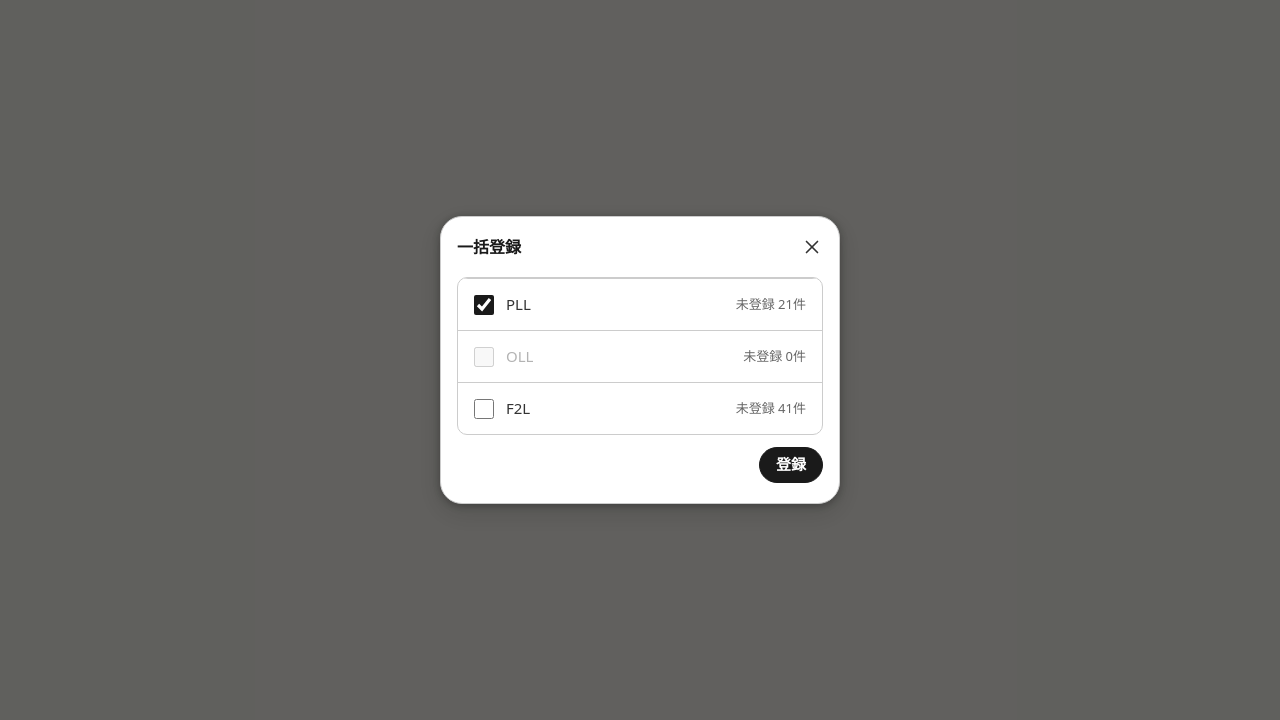
CategoryPickSheet › 1 つも選んでいなければ確定できない
The image size is (1280, 720).
Click the checkbox labelled "PLL 未登録 21件": (484, 304) [474, 294, 494, 314]
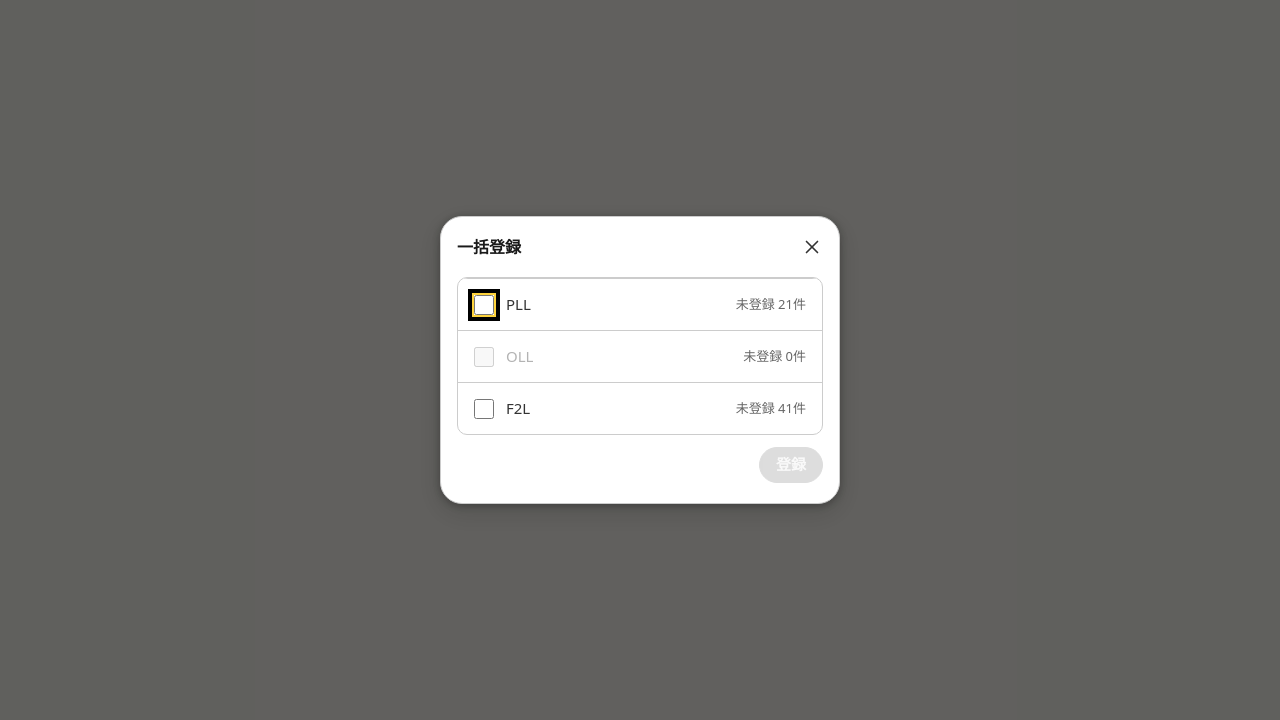
Check: the button "登録" is disabled, box [759, 447, 823, 483]
